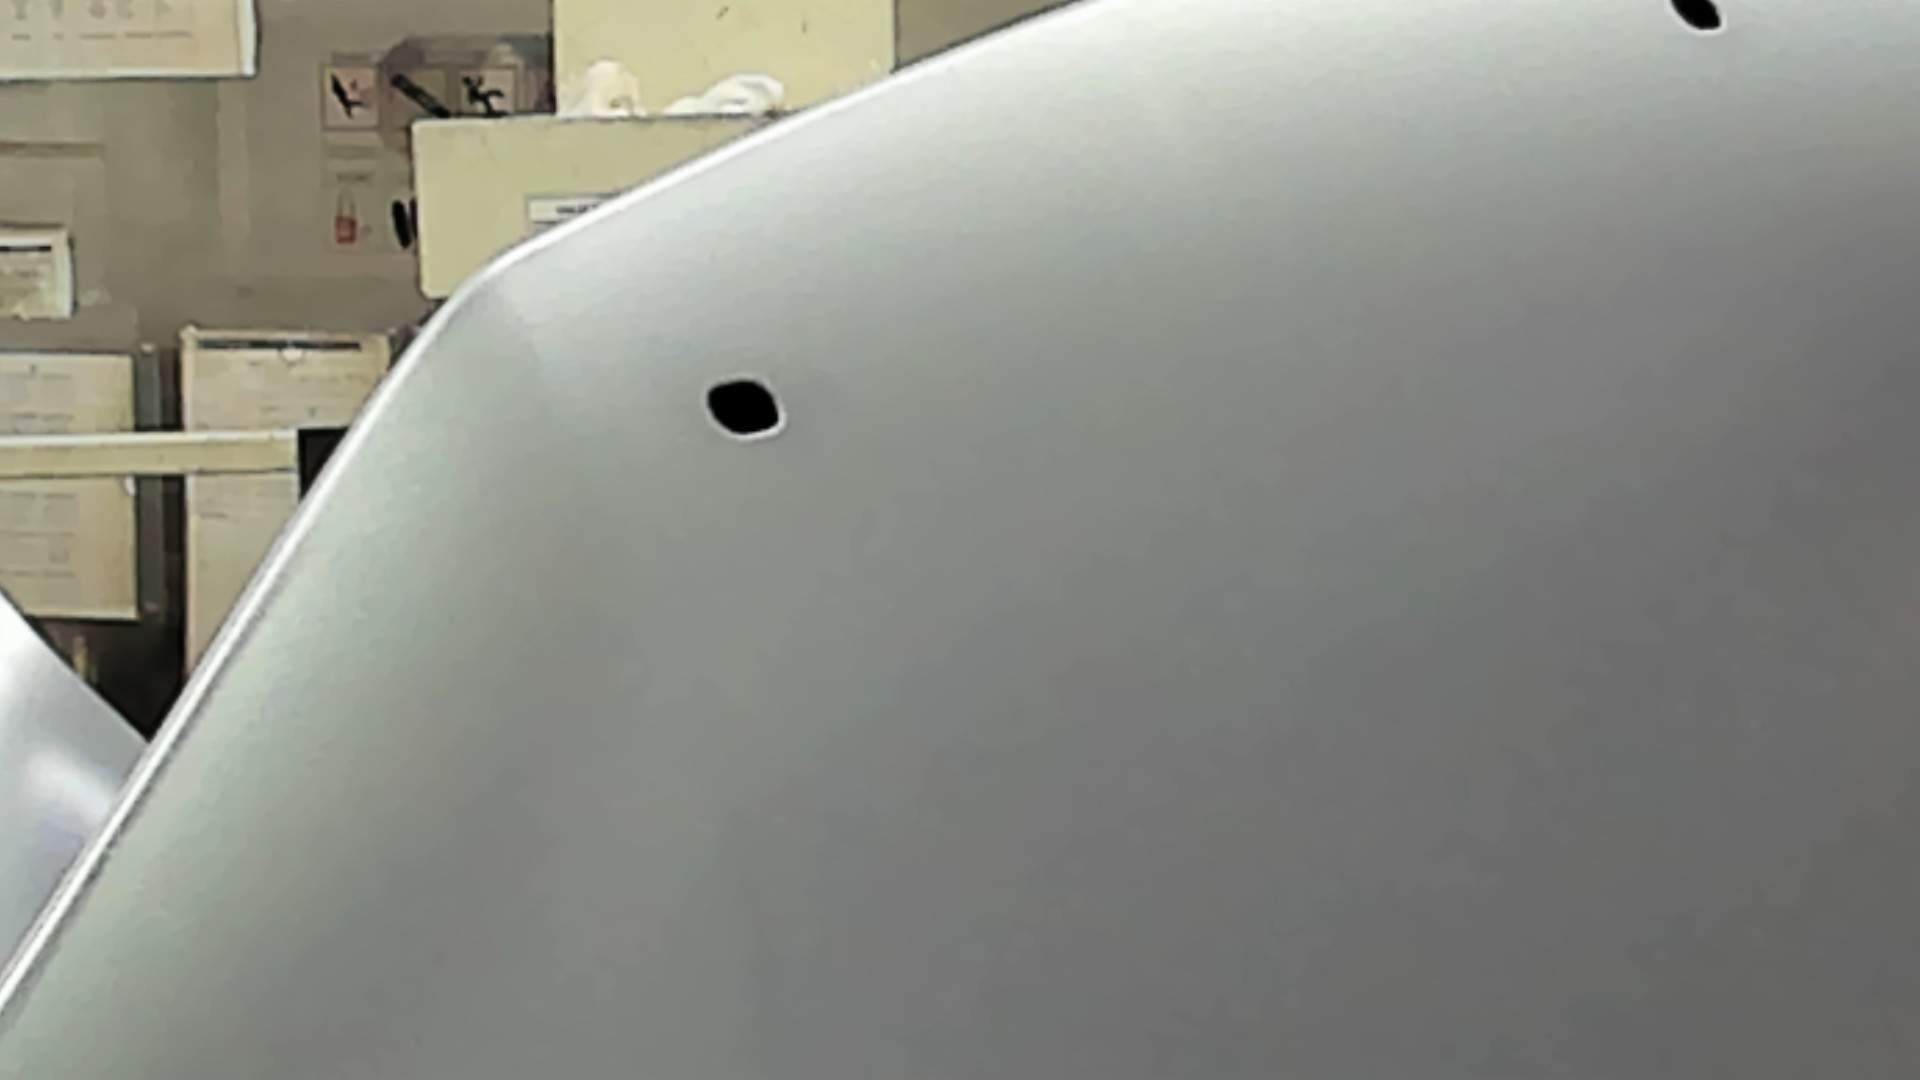amorfo: (700, 371, 791, 444), (1665, 1, 1733, 49)
